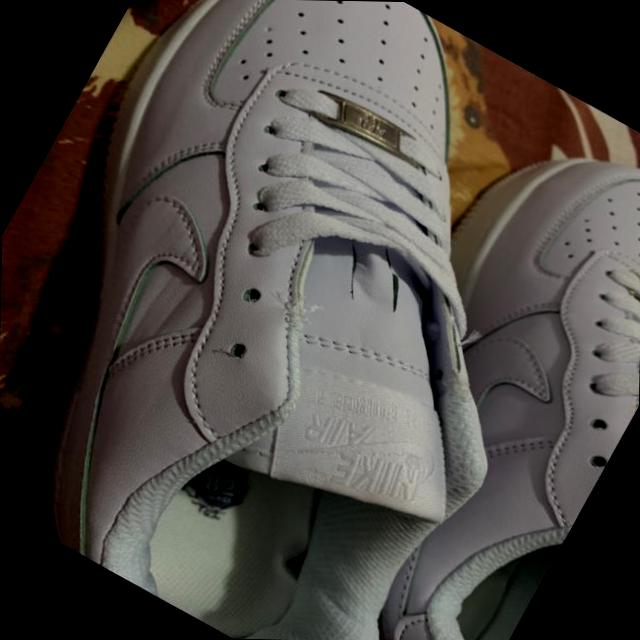nike_fake_airforce: (0, 0, 640, 640), (233, 86, 640, 640)
